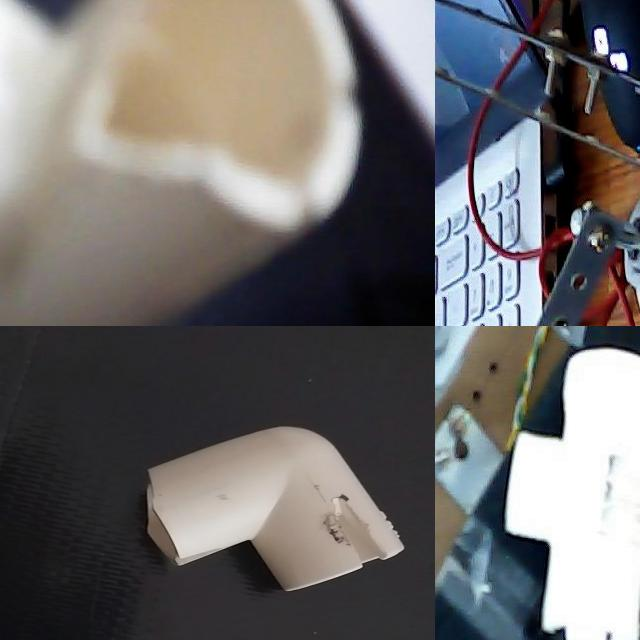Defective: (104, 0, 227, 220), (298, 35, 366, 228), (313, 495, 397, 579), (536, 622, 640, 640)
L Joint: (146, 427, 405, 593)
T Joint: (502, 348, 640, 640)
